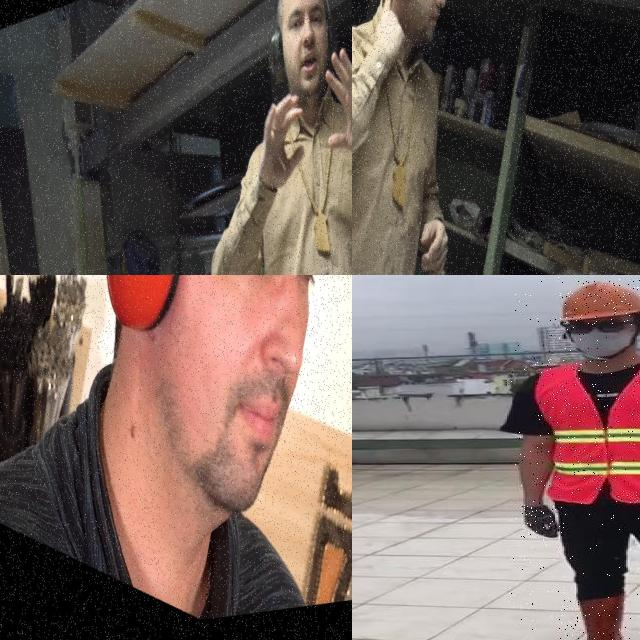Ear-protection: (259, 0, 343, 124), (94, 275, 206, 364), (376, 0, 461, 51)
No_Glasses: (283, 0, 327, 44)
boots: (560, 601, 626, 640)
head_helmet: (560, 281, 640, 325)
person: (511, 277, 640, 640)
vest: (533, 358, 640, 504)
